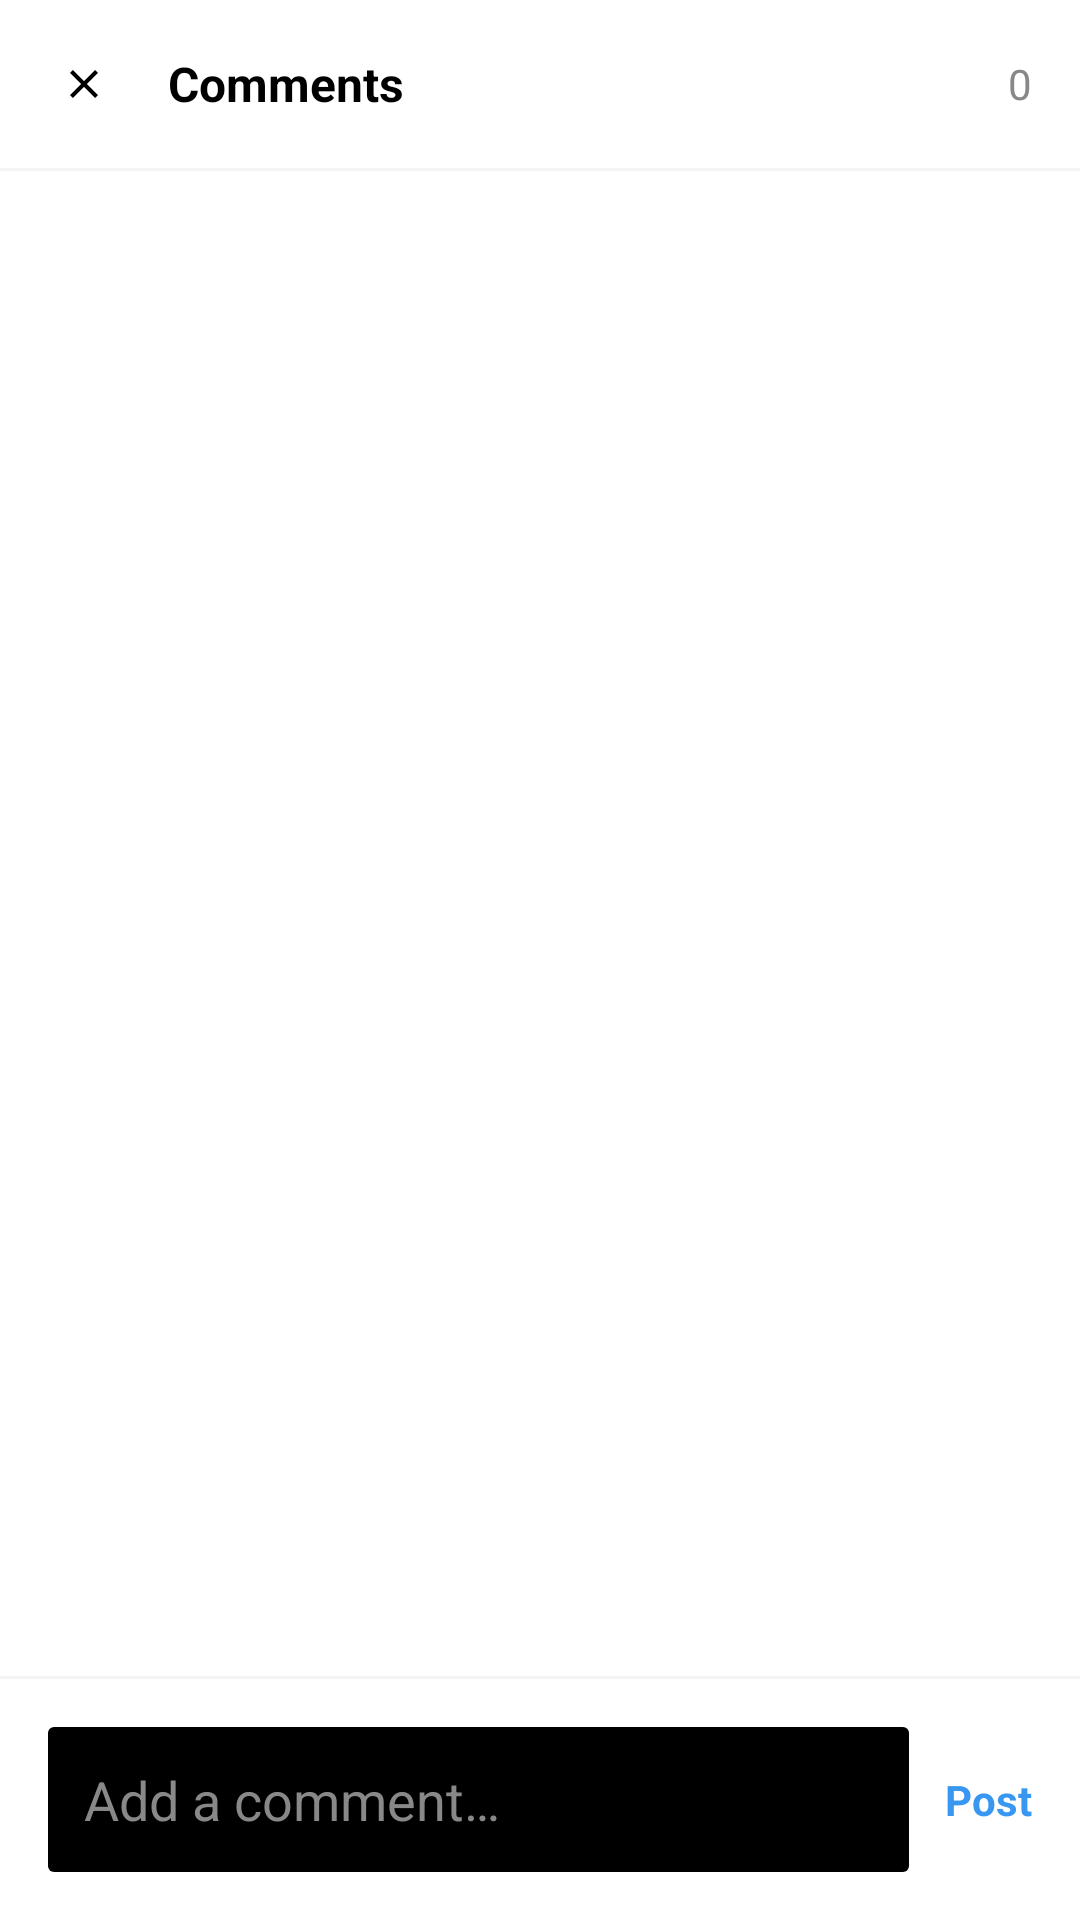

Named icons in this screenshot (1080*1920) and their bounding boxes, (x1, y1, x2, y2):
Cancel: (70, 70, 98, 98)
